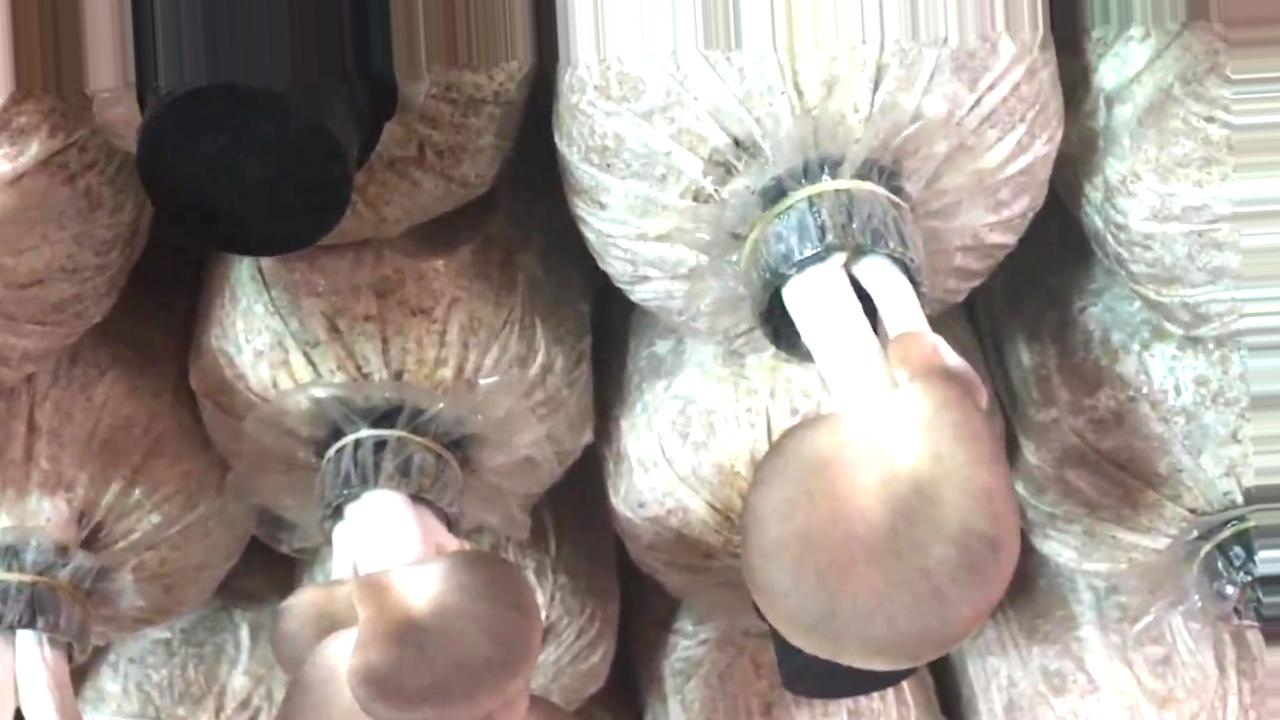nam: (740, 186, 1024, 670), (276, 434, 543, 719)
